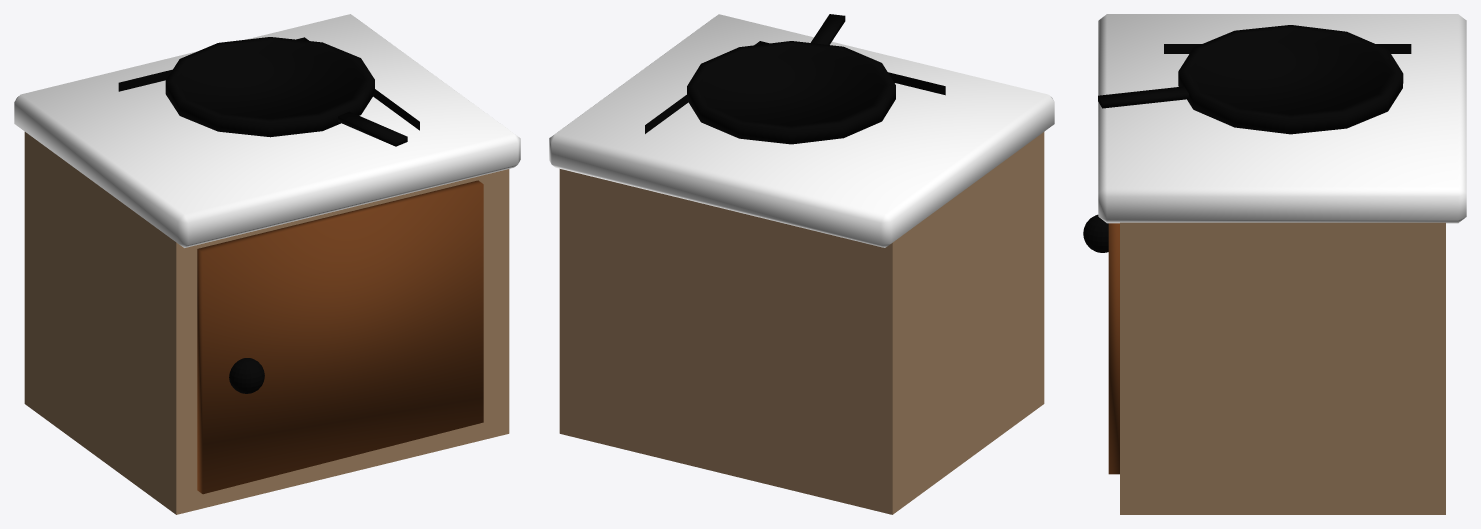
File: cube_right_pan.glb
3 views of the same model, side by side, from view 1: azimuth 30°, elevation 25°; view 2: azimuth 150°, elevation 25°; view 3: azimuth 270°, elevation 25° (orthographic). The views are drawn at different scales.
Parts seen in each view (by area): view 1: Circle.015; view 2: Circle.015; view 3: Circle.015.
Part boxes in pixels (left/top/right/bottom): Circle.015: left=14, top=14, right=520, bottom=514; Circle.015: left=549, top=14, right=1054, bottom=514; Circle.015: left=1083, top=14, right=1466, bottom=514.
Bounding box in the file's own units: 2.61 × 2.44 × 2.35.
